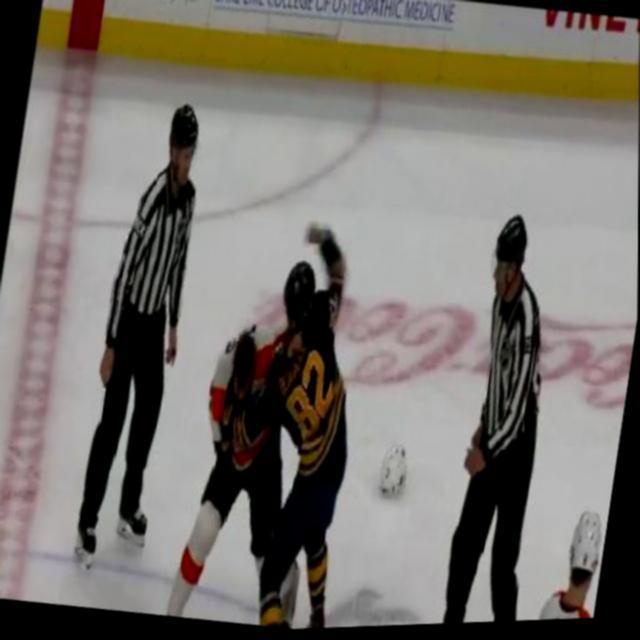fight: (177, 212, 386, 635)
